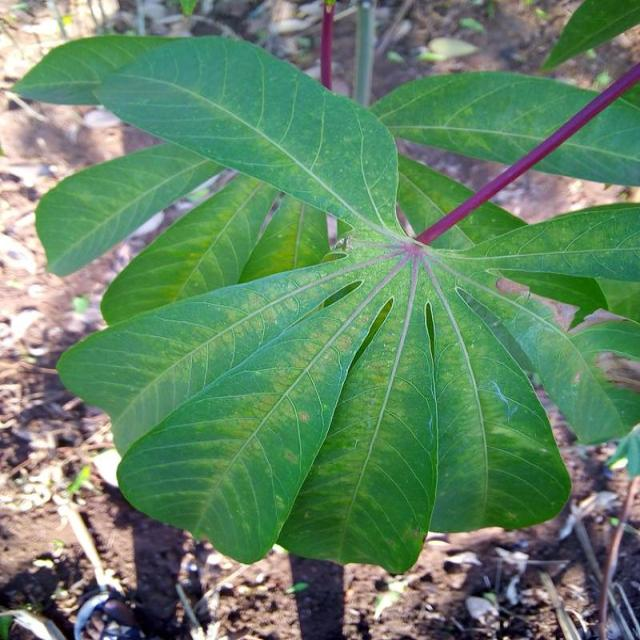cassava leaf: (12, 31, 640, 574)
